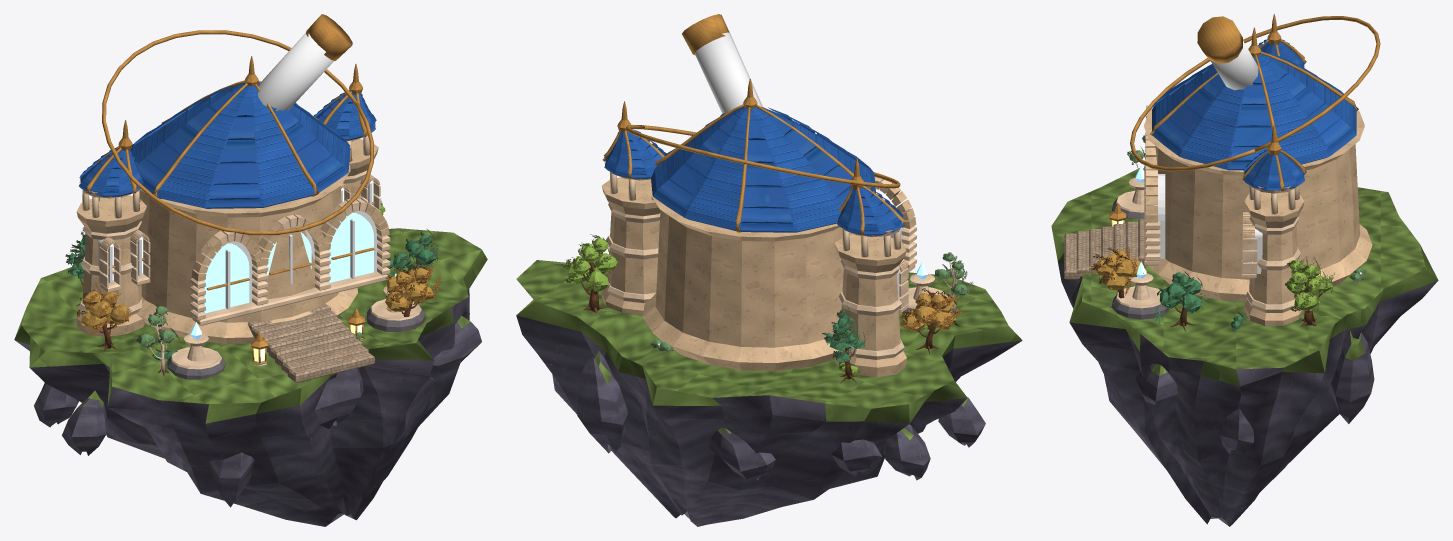
The model's file is island-2-low.glb.
3 views of the same model, side by side, from view 1: azimuth 30°, elevation 25°; view 2: azimuth 150°, elevation 25°; view 3: azimuth 270°, elevation 25° (orthographic). The views are drawn at different scales.
Parts seen in each view (by area): view 1: Stratified cliffs and meadow / cliff, Stratified cliffs and meadow / top, Architecture / stone, Architecture / roof, Architecture / trim, Architecture / gold, Architecture / paving, Architecture / azure_glass, Canopy oak / leaves, Architecture / iron, Canopy oak / sprays, Architecture / joint (+1 smaller); view 2: Stratified cliffs and meadow / cliff, Architecture / stone, Stratified cliffs and meadow / top, Architecture / roof, Architecture / trim, Architecture / gold, Canopy oak / leaves, Architecture / iron, Canopy oak / sprays, Canopy oak / wood; view 3: Stratified cliffs and meadow / cliff, Architecture / stone, Stratified cliffs and meadow / top, Architecture / roof, Architecture / gold, Architecture / trim, Canopy oak / leaves, Architecture / paving, Canopy oak / sprays, Architecture / iron, Architecture / joint, Architecture / seam (+1 smaller).
Part boxes in pixels (x1=…): Stratified cliffs and meadow / cliff: x1=15, y1=289, x2=481, y2=526; Stratified cliffs and meadow / top: x1=14, y1=228, x2=487, y2=423; Architecture / stone: x1=76, y1=139, x2=389, y2=343; Architecture / roof: x1=79, y1=83, x2=376, y2=208; Architecture / trim: x1=78, y1=122, x2=421, y2=373; Architecture / gold: x1=85, y1=14, x2=375, y2=364; Architecture / paving: x1=248, y1=303, x2=374, y2=382; Architecture / azure_glass: x1=204, y1=213, x2=373, y2=313; Canopy oak / leaves: x1=68, y1=193, x2=436, y2=360; Architecture / iron: x1=108, y1=33, x2=372, y2=365; Canopy oak / sprays: x1=65, y1=198, x2=441, y2=360; Architecture / joint: x1=167, y1=305, x2=425, y2=379; Stratified cliffs and meadow / cliff: x1=516, y1=315, x2=1021, y2=526; Architecture / stone: x1=601, y1=177, x2=916, y2=376; Stratified cliffs and meadow / top: x1=516, y1=260, x2=1022, y2=439; Architecture / roof: x1=604, y1=106, x2=903, y2=235; Architecture / trim: x1=604, y1=160, x2=962, y2=359; Architecture / gold: x1=602, y1=14, x2=905, y2=236; Canopy oak / leaves: x1=567, y1=237, x2=967, y2=374; Architecture / iron: x1=694, y1=32, x2=762, y2=113; Canopy oak / sprays: x1=561, y1=234, x2=973, y2=374; Canopy oak / wood: x1=574, y1=244, x2=959, y2=383; Stratified cliffs and meadow / cliff: x1=1058, y1=262, x2=1438, y2=526; Architecture / stone: x1=1144, y1=108, x2=1372, y2=326; Stratified cliffs and meadow / top: x1=1051, y1=168, x2=1438, y2=386; Architecture / roof: x1=1152, y1=39, x2=1356, y2=190; Architecture / gold: x1=1109, y1=14, x2=1380, y2=226; Architecture / trim: x1=1116, y1=105, x2=1301, y2=312; Canopy oak / leaves: x1=1094, y1=137, x2=1363, y2=328; Architecture / paving: x1=1064, y1=219, x2=1144, y2=279; Canopy oak / sprays: x1=1090, y1=132, x2=1366, y2=330; Architecture / iron: x1=1150, y1=41, x2=1258, y2=262; Architecture / joint: x1=1112, y1=198, x2=1169, y2=319; Architecture / seam: x1=1155, y1=174, x2=1262, y2=273.
Bounding box in the file's own units: 6.1 × 6.56 × 4.65.
19 materials, 11 textured.
